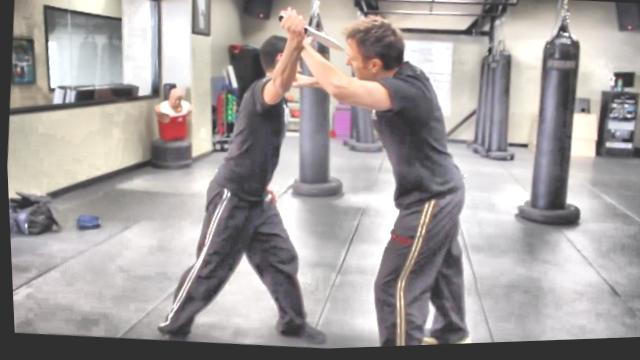knife: (273, 8, 350, 57)
